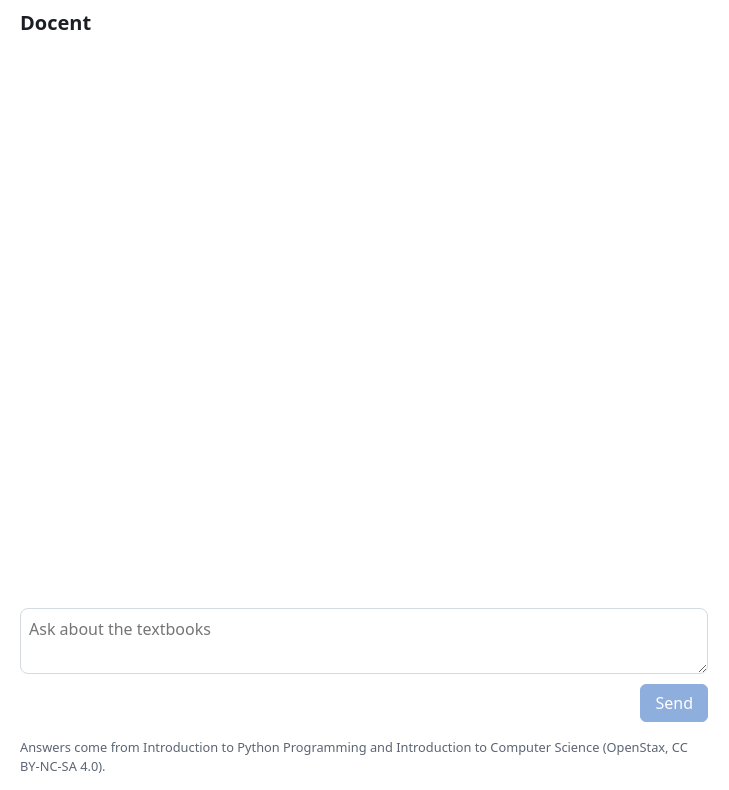
answered › places chips after the segments that cite, one per distinct passage
Type "How does precedence work?" into the text box named "Question".
click(364, 641); type("How does precedence work?")  # box [20,608,708,674]
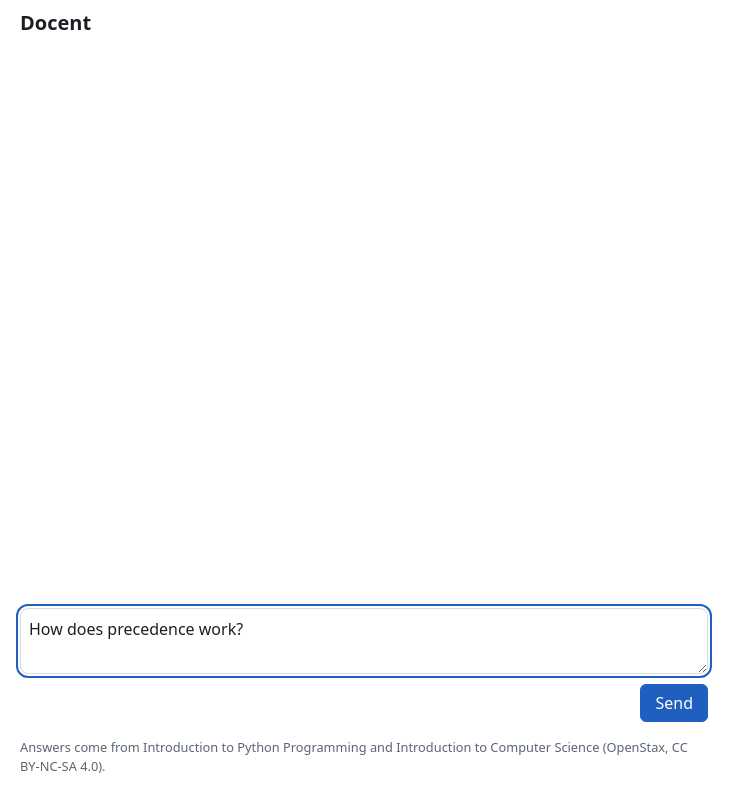
Press Enter
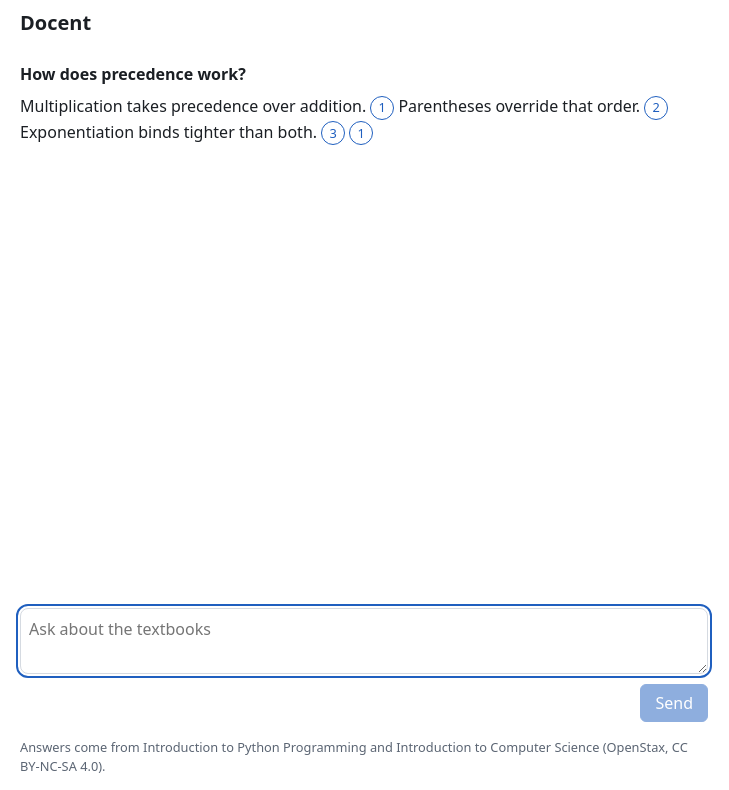
Check: the number of buttons named "Source 1:" is 2, box [370,96,394,120]; [349,121,373,145]
Check: the number of buttons named "Source 2:" is 1, box [644,96,668,120]
Check: the number of buttons named "Source 3:" is 1, box [321,121,345,145]
